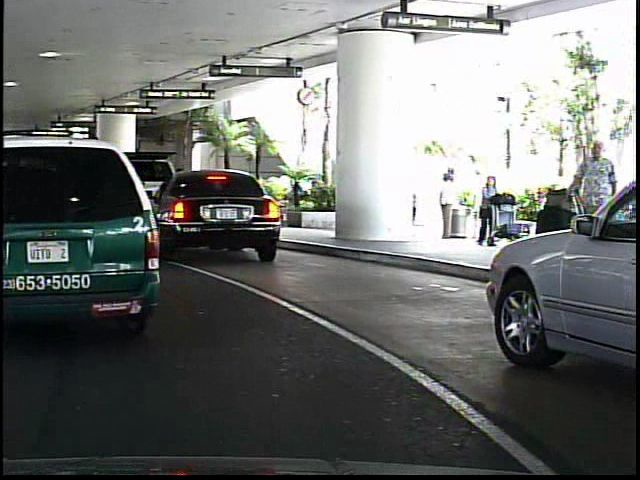person: (564, 132, 616, 287), (469, 172, 499, 252)
